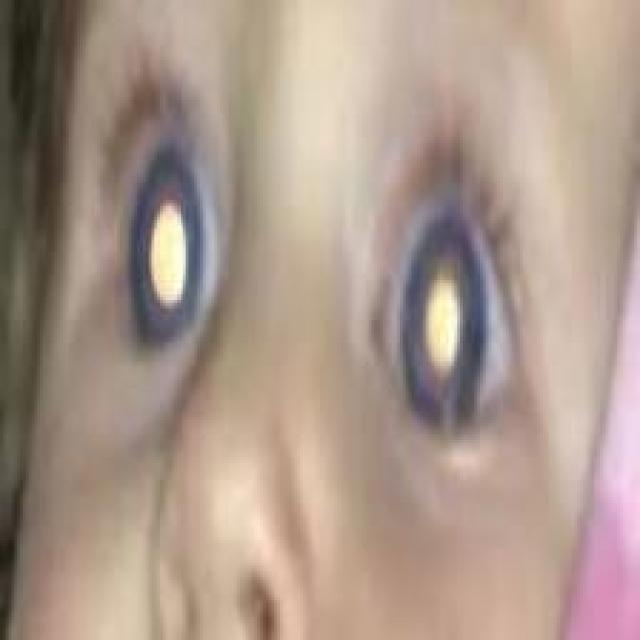reflexo-alterado: (357, 103, 528, 460), (84, 99, 226, 382)
